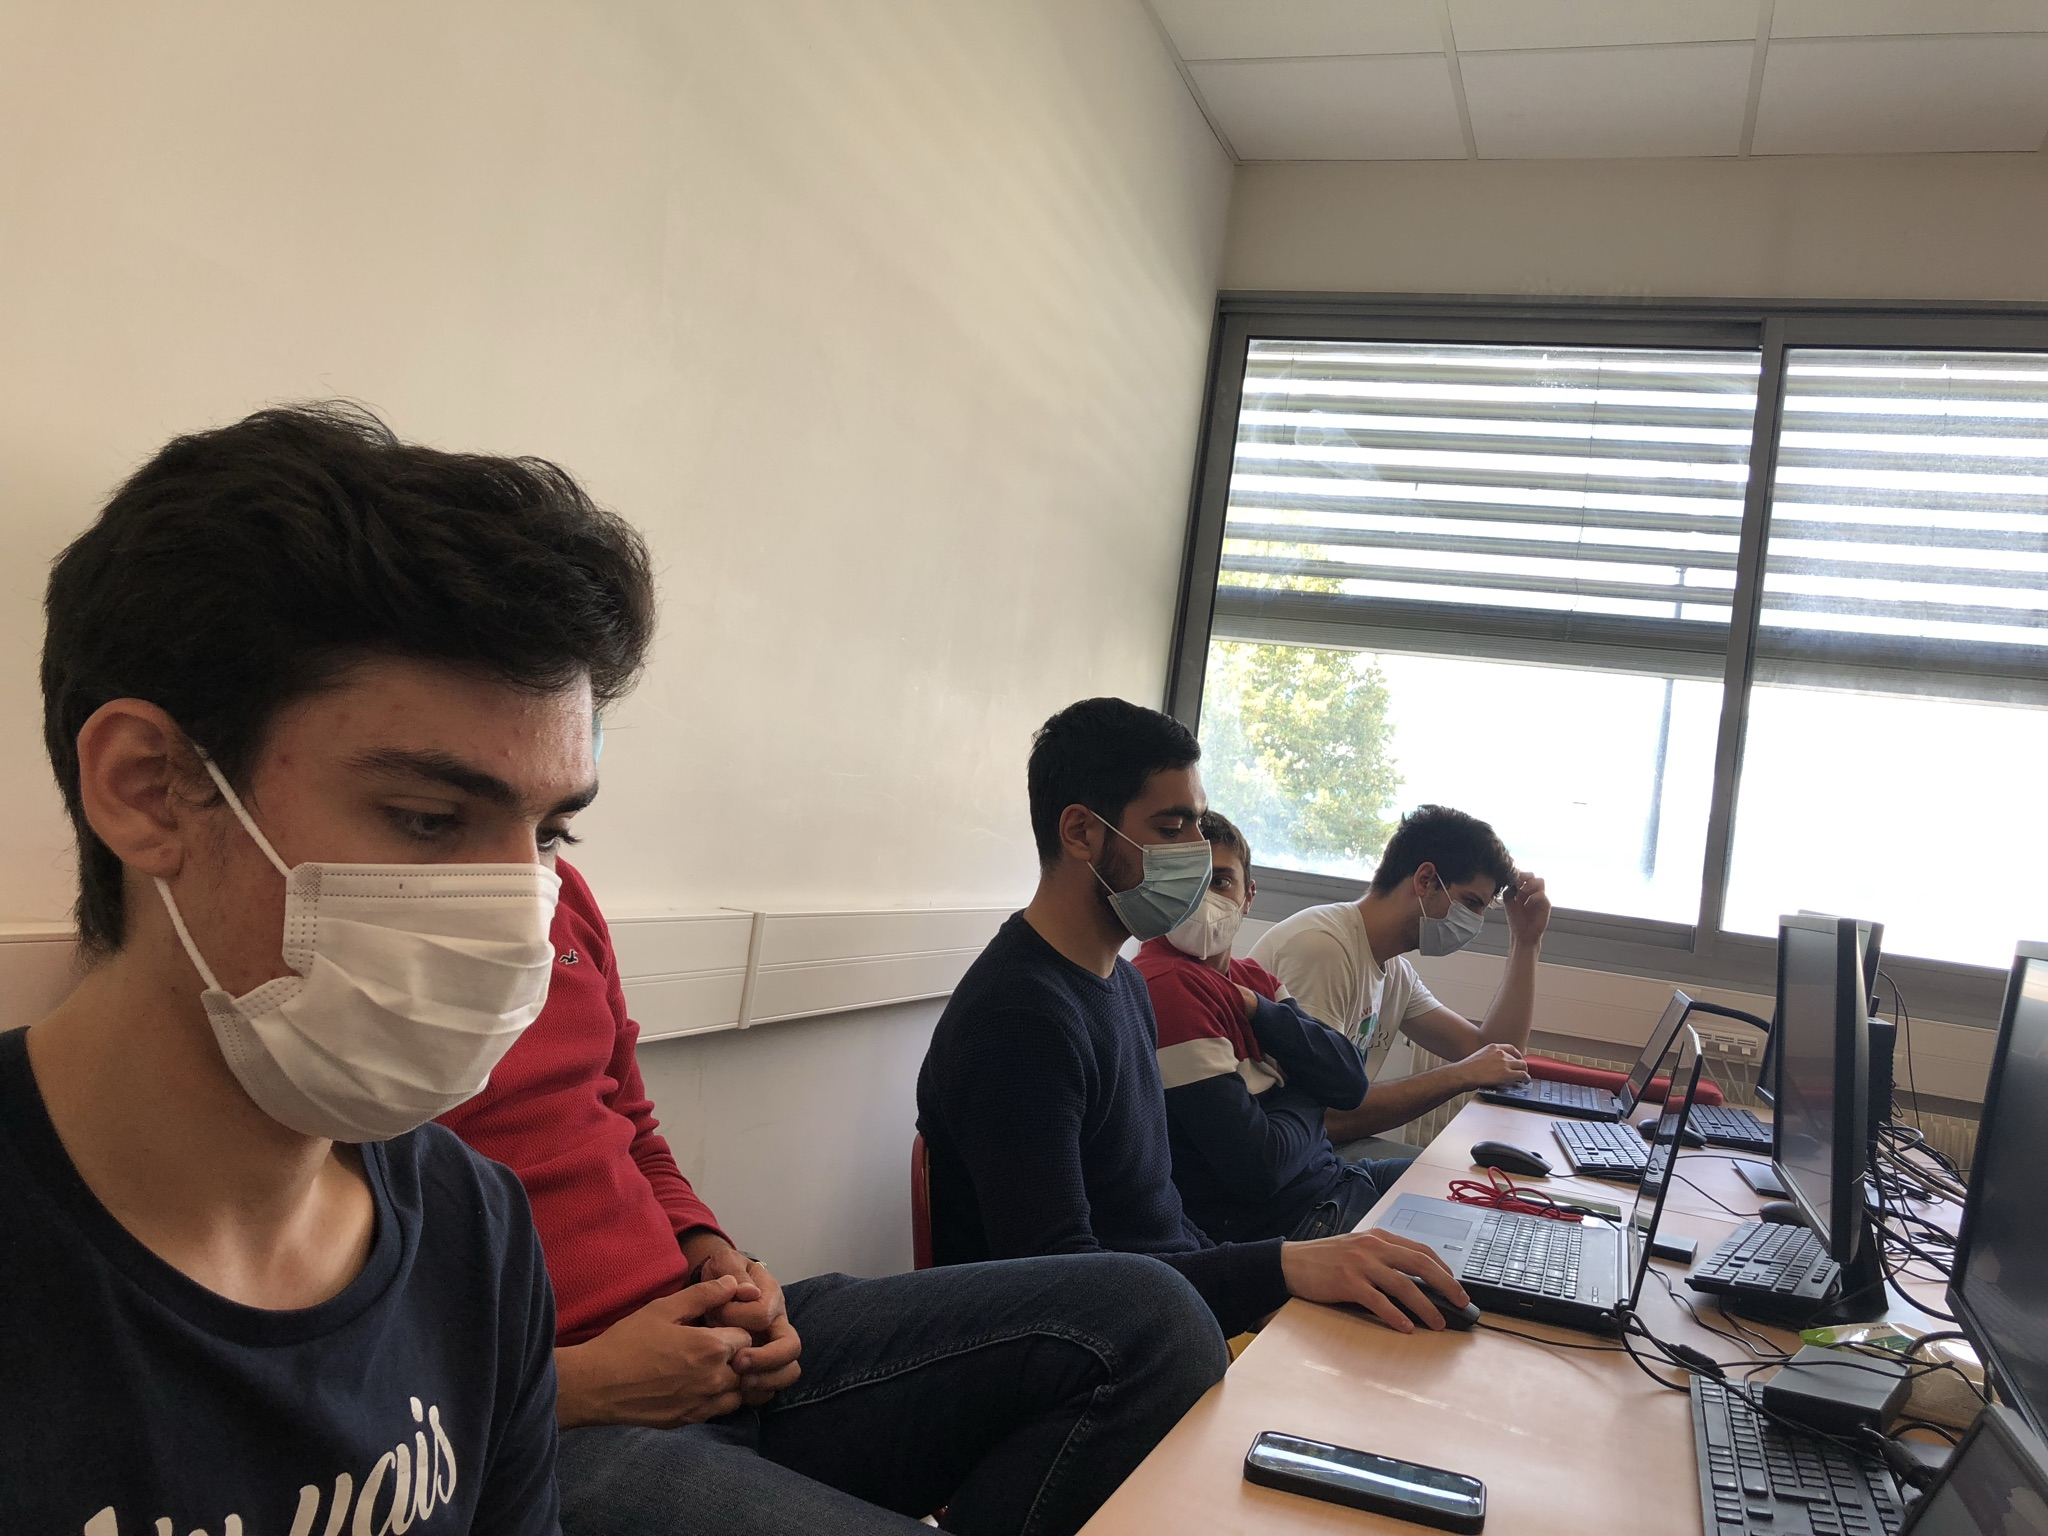with_mask: (257, 696, 588, 1146), (1110, 782, 1214, 944), (1424, 863, 1495, 972)
